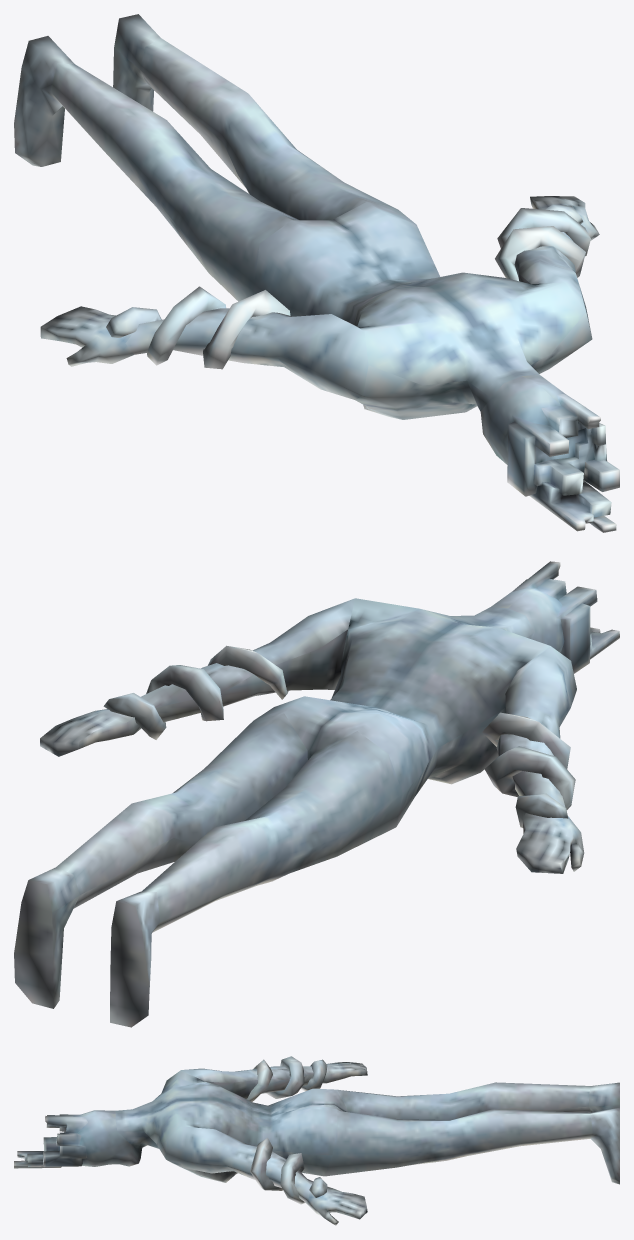
The model's file is minos.obj.
The picture shows the model from 3 angles, top to bottom: view 1: azimuth 30°, elevation 25°; view 2: azimuth 150°, elevation 25°; view 3: azimuth 270°, elevation 25°; orthographic projection. The views are drawn at different scales.
Parts seen in each view (by area): view 1: MinosPrime_Body_001_0; view 2: MinosPrime_Body_001_0; view 3: MinosPrime_Body_001_0.
Part boxes in pixels (bbox=[...]): MinosPrime_Body_001_0: bbox=[14, 14, 619, 532]; MinosPrime_Body_001_0: bbox=[14, 561, 619, 1027]; MinosPrime_Body_001_0: bbox=[14, 1056, 619, 1225].
Bounding box in the file's own units: 0.7444 × 0.1765 × 1.26.
Materials: 1 (1 with a texture image).
